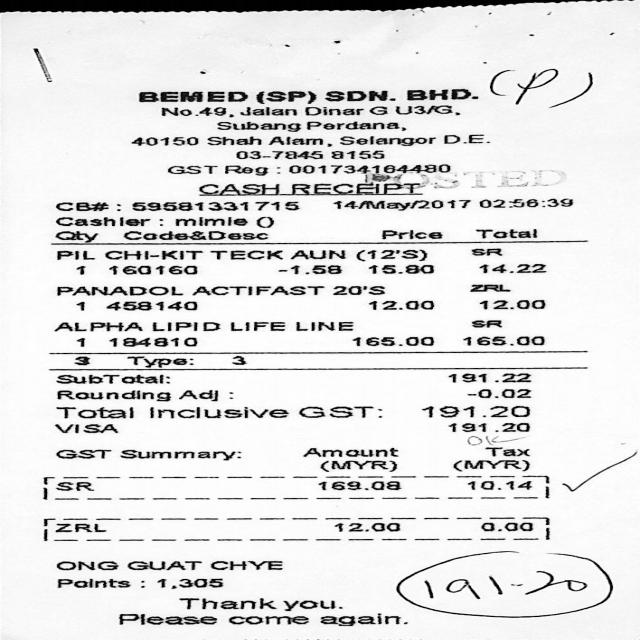text: (149, 406, 286, 418), (130, 201, 297, 210), (288, 164, 448, 173), (290, 182, 419, 193), (333, 199, 469, 209), (122, 230, 266, 239), (57, 390, 168, 401), (118, 449, 238, 459), (190, 285, 322, 294), (421, 406, 529, 417), (55, 286, 182, 295), (320, 612, 406, 625), (136, 91, 245, 101), (177, 597, 275, 608), (54, 374, 170, 383), (117, 614, 214, 624), (307, 120, 403, 130), (339, 135, 433, 145), (298, 406, 382, 417), (55, 406, 131, 418), (319, 459, 394, 471), (107, 264, 194, 274), (301, 447, 396, 456), (215, 121, 299, 131), (355, 249, 425, 261), (406, 88, 475, 100), (446, 372, 528, 382), (316, 480, 398, 490), (198, 184, 279, 194), (52, 322, 140, 331), (126, 355, 192, 367), (103, 250, 201, 258), (107, 337, 194, 346), (161, 106, 232, 117), (451, 460, 527, 470), (324, 90, 393, 101), (256, 90, 314, 103), (54, 217, 148, 225), (479, 199, 571, 207), (105, 301, 195, 309), (226, 615, 306, 624), (234, 150, 320, 158), (55, 578, 128, 587), (350, 337, 431, 345), (209, 560, 281, 569), (394, 104, 458, 114), (447, 423, 527, 431), (156, 578, 220, 588), (174, 216, 245, 225), (462, 336, 541, 344), (266, 136, 329, 146), (476, 263, 544, 272), (332, 522, 398, 531), (126, 561, 200, 569), (281, 600, 340, 610), (130, 136, 195, 145), (366, 300, 431, 309), (55, 201, 119, 210), (209, 250, 281, 258), (53, 423, 117, 432), (466, 480, 530, 489), (466, 388, 529, 397), (150, 322, 218, 330), (474, 228, 534, 237), (52, 230, 97, 242), (52, 522, 105, 532), (366, 264, 431, 272), (276, 265, 340, 273), (479, 300, 542, 308), (54, 561, 116, 569), (54, 449, 108, 458), (382, 230, 441, 238), (480, 522, 532, 531), (303, 106, 361, 114), (294, 322, 352, 330), (331, 285, 382, 294), (238, 106, 294, 114), (484, 446, 528, 456), (229, 322, 283, 330), (206, 136, 259, 144), (290, 250, 343, 258), (224, 165, 266, 175), (177, 389, 215, 400), (443, 134, 488, 143), (331, 150, 381, 158), (166, 165, 215, 173), (54, 481, 92, 491), (55, 250, 93, 259), (468, 284, 509, 291), (469, 248, 501, 255), (470, 320, 500, 327), (367, 105, 385, 114), (256, 216, 272, 226), (73, 356, 88, 365), (230, 355, 244, 364), (74, 265, 83, 274), (75, 301, 83, 310), (75, 338, 83, 347)
